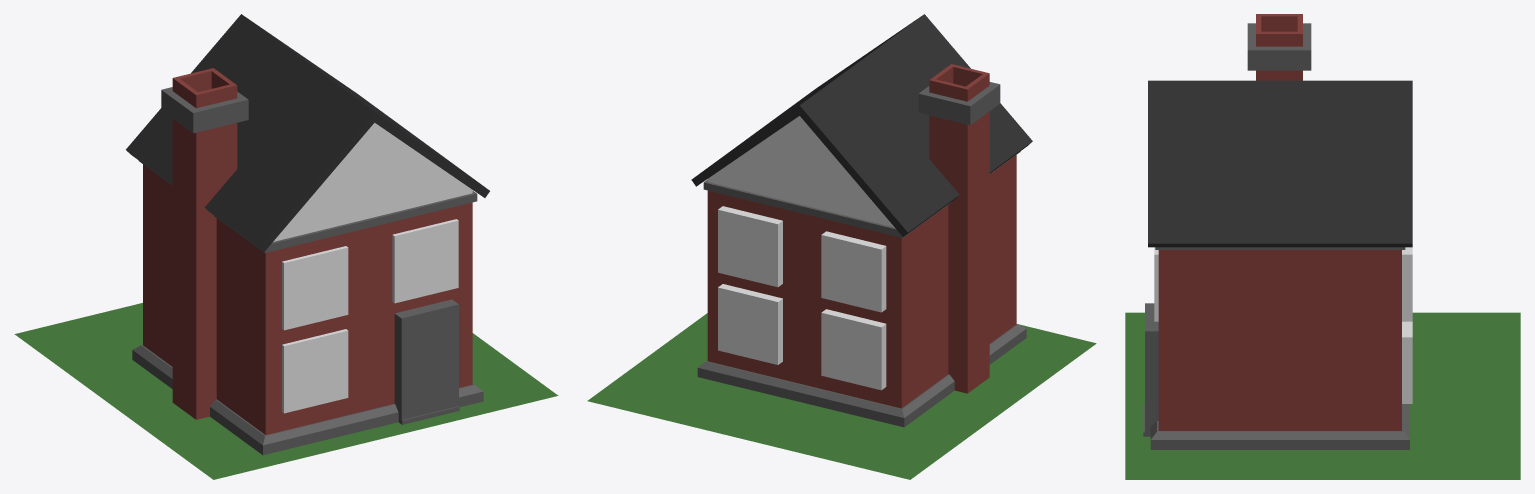
The model's file is 1x1 Building.fbx.
3 renders of one model, left to right at view 1: azimuth 30°, elevation 25°; view 2: azimuth 150°, elevation 25°; view 3: azimuth 270°, elevation 25°, orthographic. The views are drawn at different scales.
Visible parts, largest first — view 1: 1x1 Building, 1x1 Building Door Cutter, 1x1 Building Windows Cutter.001, 1x1 Building Windows Cutter, 1x1 Building Windows Cutter.002; view 2: 1x1 Building, 1x1 Building Windows Cutter.003, 1x1 Building Windows Cutter.005, 1x1 Building Windows Cutter.004, 1x1 Building Windows Cutter.006; view 3: 1x1 Building, 1x1 Building Door Cutter, 1x1 Building Windows Cutter.006, 1x1 Building Windows Cutter.004.
Boxes of the visible parts, bbox=[...] form: 1x1 Building: bbox=[14, 14, 558, 479]; 1x1 Building Door Cutter: bbox=[394, 299, 458, 424]; 1x1 Building Windows Cutter.001: bbox=[282, 246, 348, 330]; 1x1 Building Windows Cutter: bbox=[392, 219, 458, 303]; 1x1 Building Windows Cutter.002: bbox=[282, 329, 348, 413]; 1x1 Building: bbox=[587, 14, 1096, 479]; 1x1 Building Windows Cutter.003: bbox=[821, 231, 886, 312]; 1x1 Building Windows Cutter.005: bbox=[821, 309, 886, 390]; 1x1 Building Windows Cutter.004: bbox=[718, 206, 782, 287]; 1x1 Building Windows Cutter.006: bbox=[718, 284, 782, 364]; 1x1 Building: bbox=[1125, 14, 1520, 479]; 1x1 Building Door Cutter: bbox=[1145, 303, 1158, 436]; 1x1 Building Windows Cutter.006: bbox=[1402, 321, 1412, 403]; 1x1 Building Windows Cutter.004: bbox=[1402, 247, 1412, 321].
Size of the model in its own units: 1 by 0.8991 by 1.
